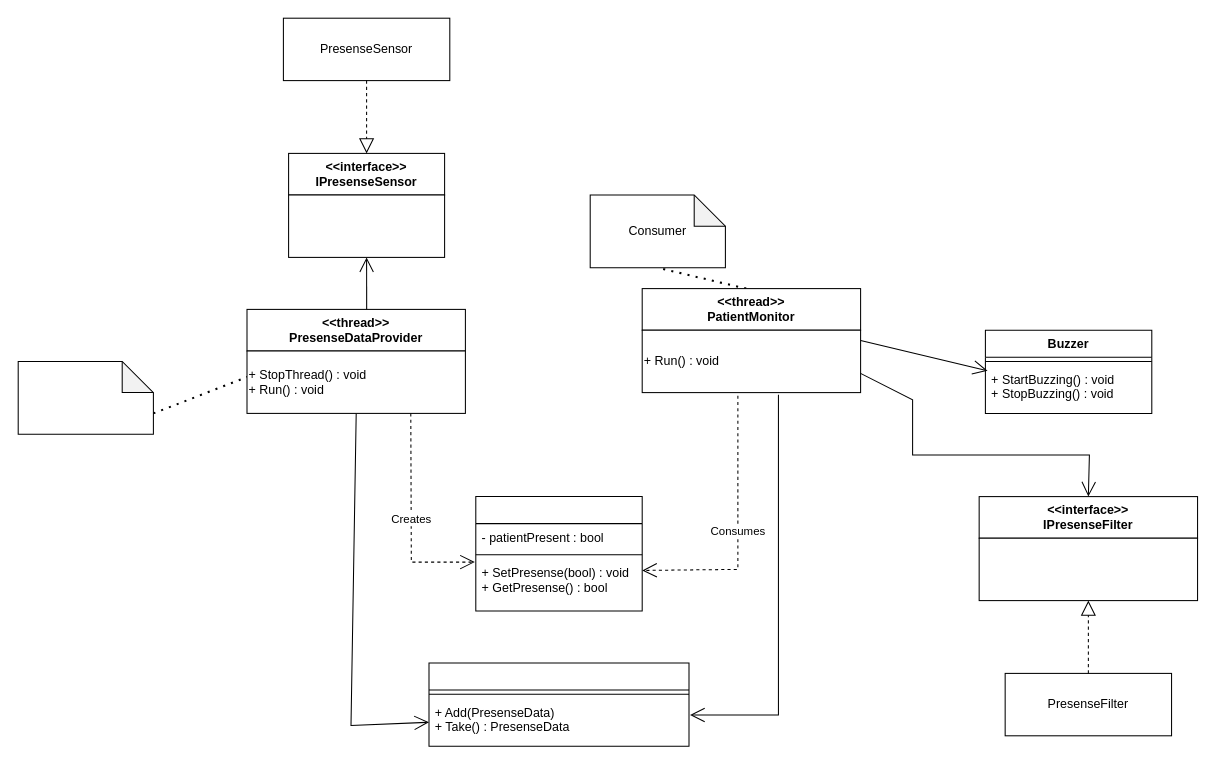
This 1216x768 diagram has some shape labels left out. The shapes that lost their labels are listed below. From the top down, each one's box as (x1, y1, x2, y2) in pixels, then its label:
(288, 194, 445, 257): + IsPatientInBed() : bool
(17, 360, 153, 434): Producer
(475, 496, 642, 611): PresenseData
(978, 537, 1198, 601): + AddPresenseSample(bool) : bool
(428, 662, 689, 746): BlockingCollection<PresenseData>
